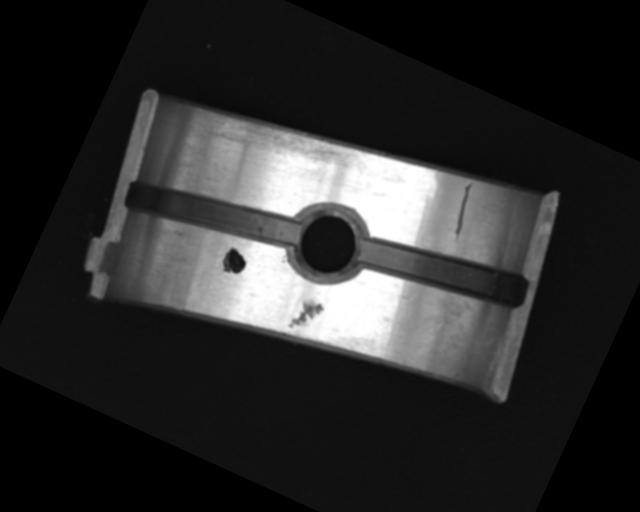blot: (218, 245, 251, 279)
bruise: (286, 294, 325, 338)
gap: (121, 151, 303, 276), (353, 209, 529, 330)
hole: (277, 192, 380, 294)
nick: (441, 178, 483, 244)
scratch: (200, 85, 367, 197)
